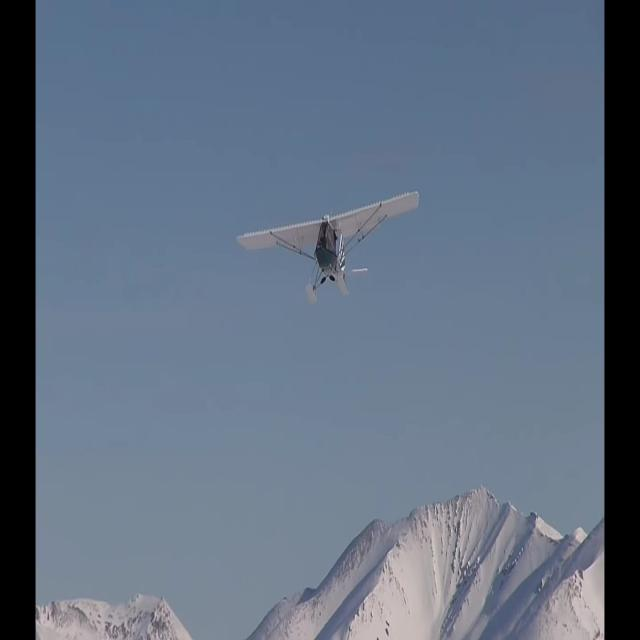iha: (229, 220, 414, 274)
